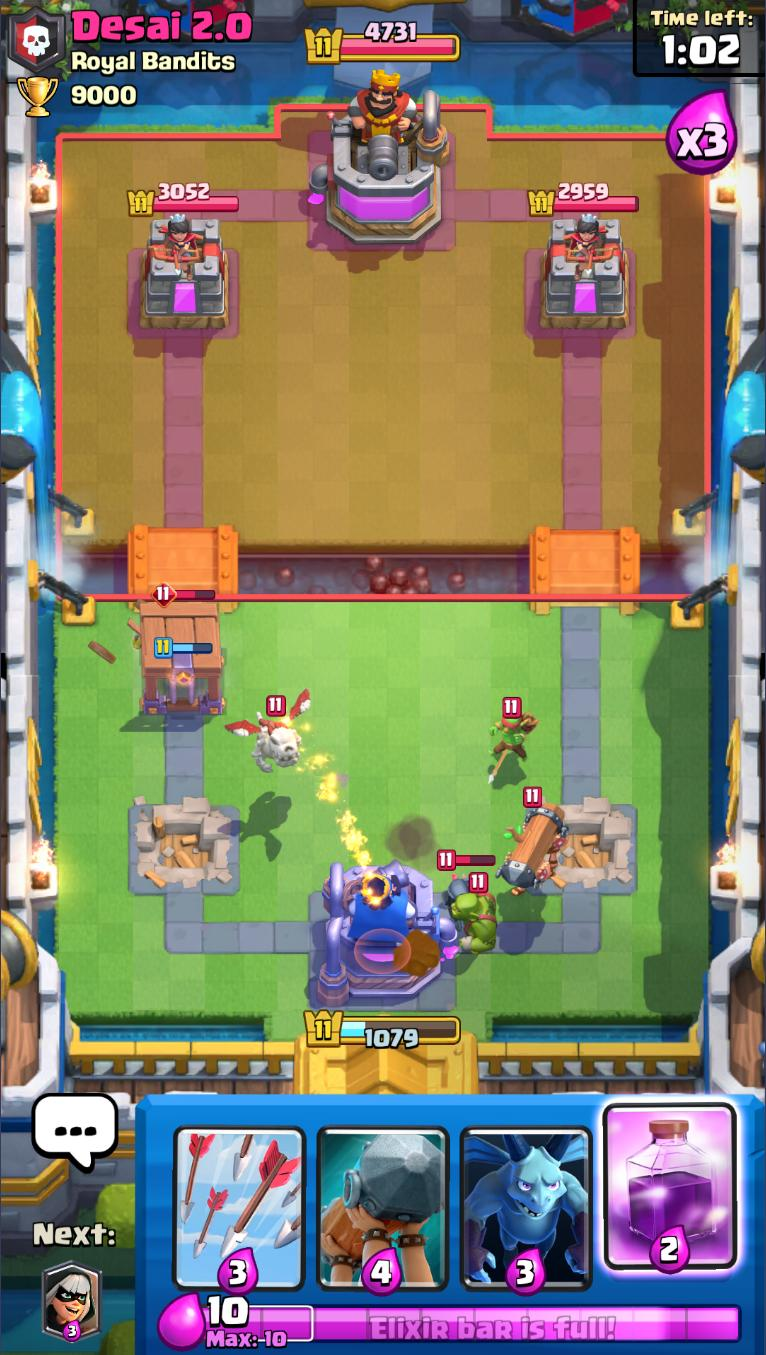ArrowDeck: (165, 1096, 307, 1295)
BanditNext: (41, 1263, 101, 1344)
BattleRam: (500, 787, 569, 898)
BattleRamDeck: (311, 1097, 454, 1295)
Elixir: (202, 1295, 745, 1352)
EnemyTower: (137, 214, 231, 333), (538, 214, 632, 331)
EvoGoblinCage: (142, 578, 227, 716)
GoblinCageGoblin: (451, 872, 502, 955)
KingTower: (309, 80, 454, 248)
KingTowerHP: (304, 27, 462, 65)
MiniPekka: (436, 851, 497, 902)
MinionsDeck: (454, 1097, 600, 1294)
MyKingHP: (302, 1006, 463, 1051)
MyKingTower: (318, 855, 460, 1009)
MyPrincessTowerBrocken: (126, 794, 242, 899), (523, 794, 639, 896)
PrincessTower: (549, 214, 604, 275), (152, 214, 202, 273)
RageDeck: (600, 1097, 744, 1294)
SkeletonDragon: (224, 688, 313, 775)
SpearGoblin: (486, 697, 536, 771)
TowerPrincessHP: (127, 180, 241, 217), (527, 181, 640, 216)
